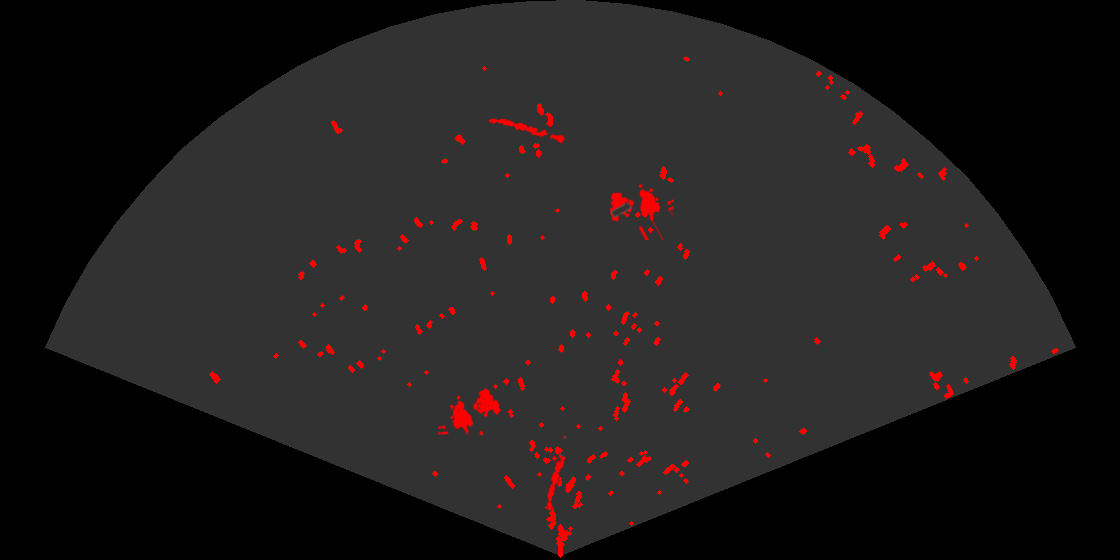cage: (608, 182, 674, 240), (438, 387, 503, 435)
chain: (486, 117, 570, 145), (545, 434, 568, 512)
